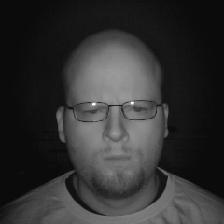sad: (49, 33, 181, 202)
